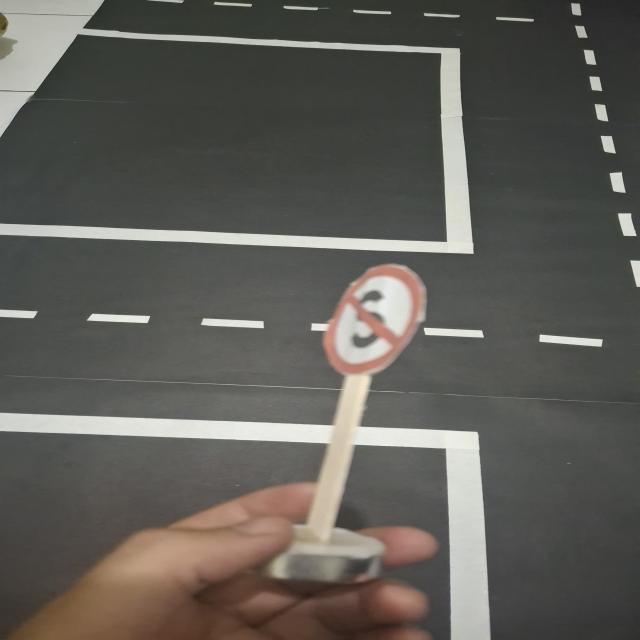Rambu Berhenti: (326, 266, 423, 374)
